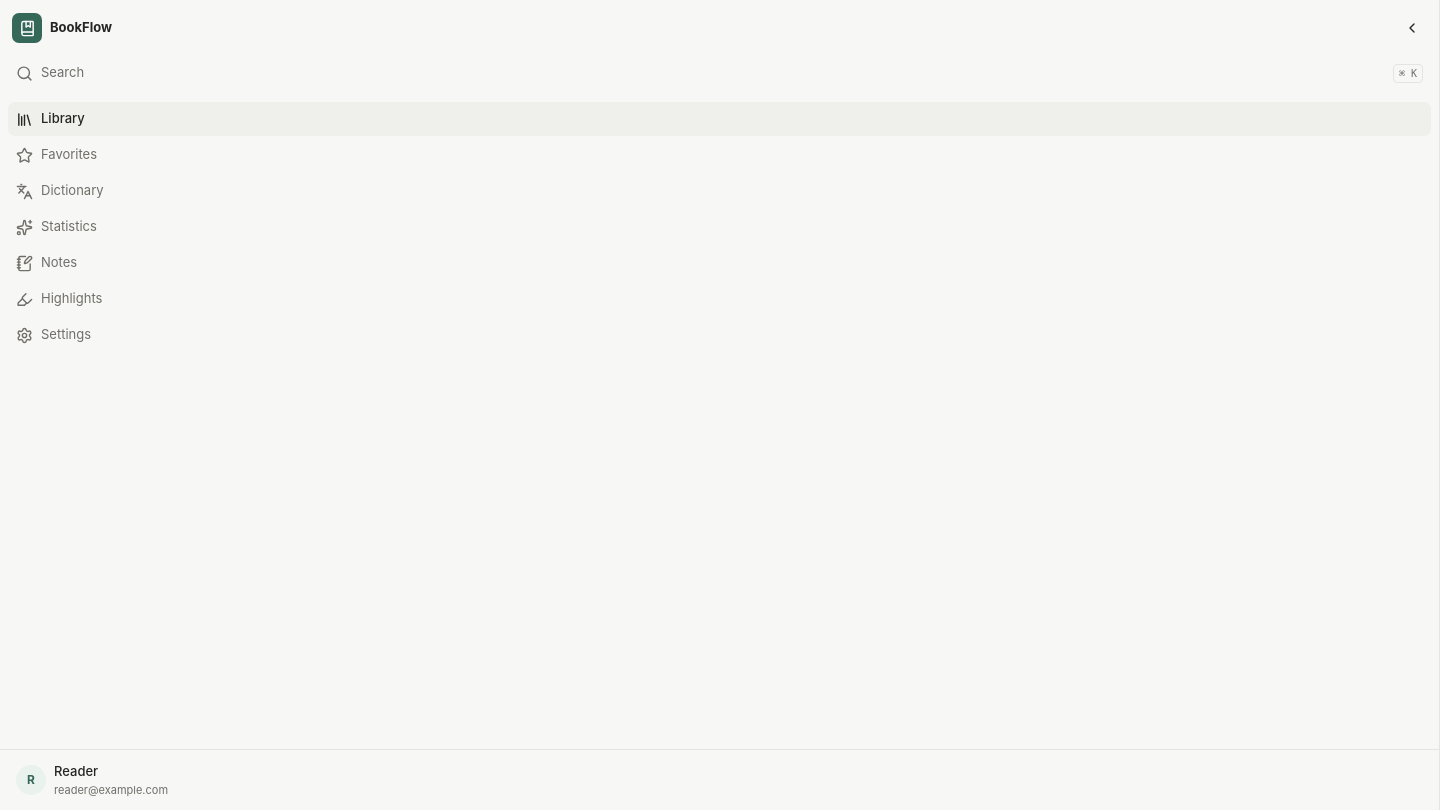
Sidebar › keeps the rail toggle at the top and supports keyboard activation both ways
Click the button named "Collapse sidebar".
click(1412, 28)  # box [1397,13,1427,43]
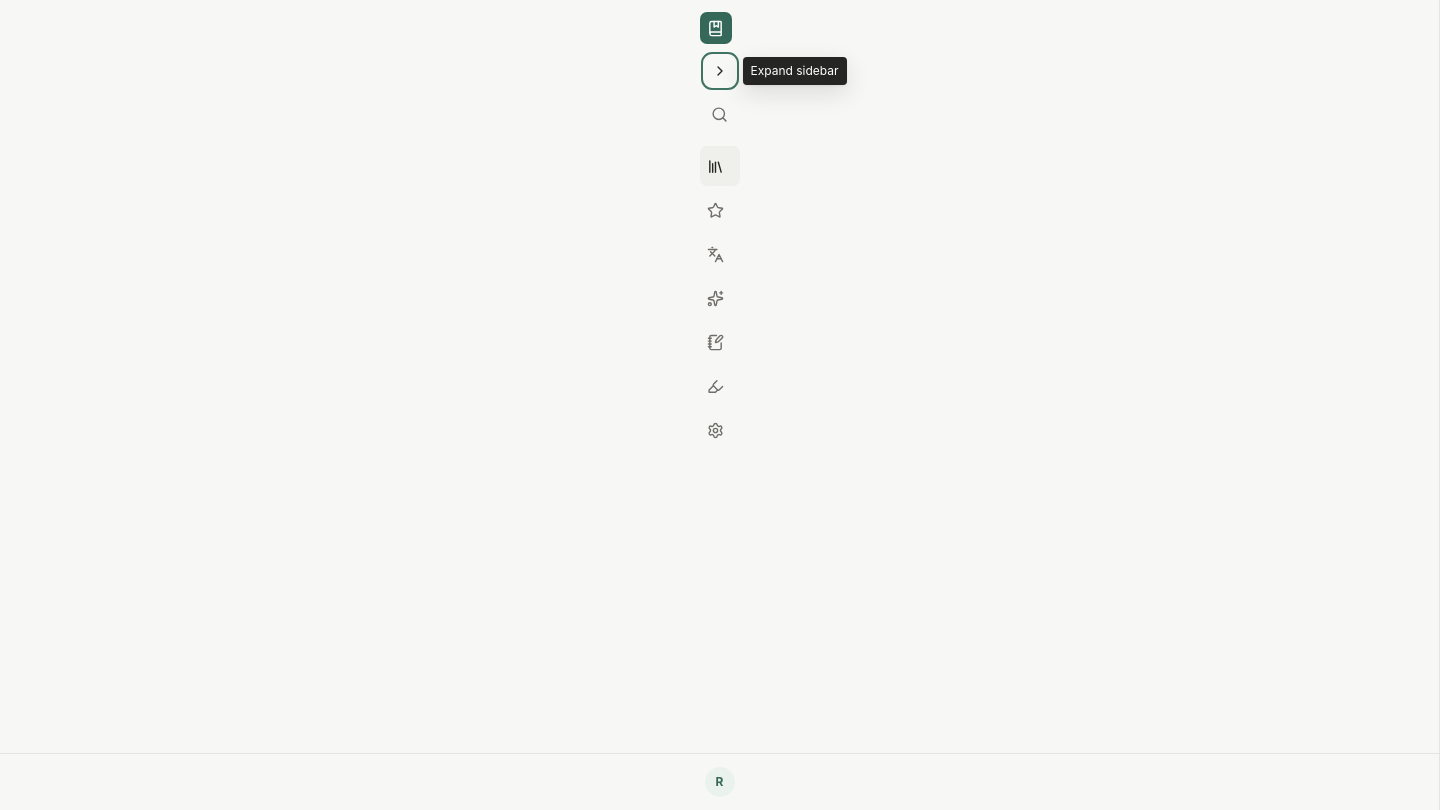
Press Enter
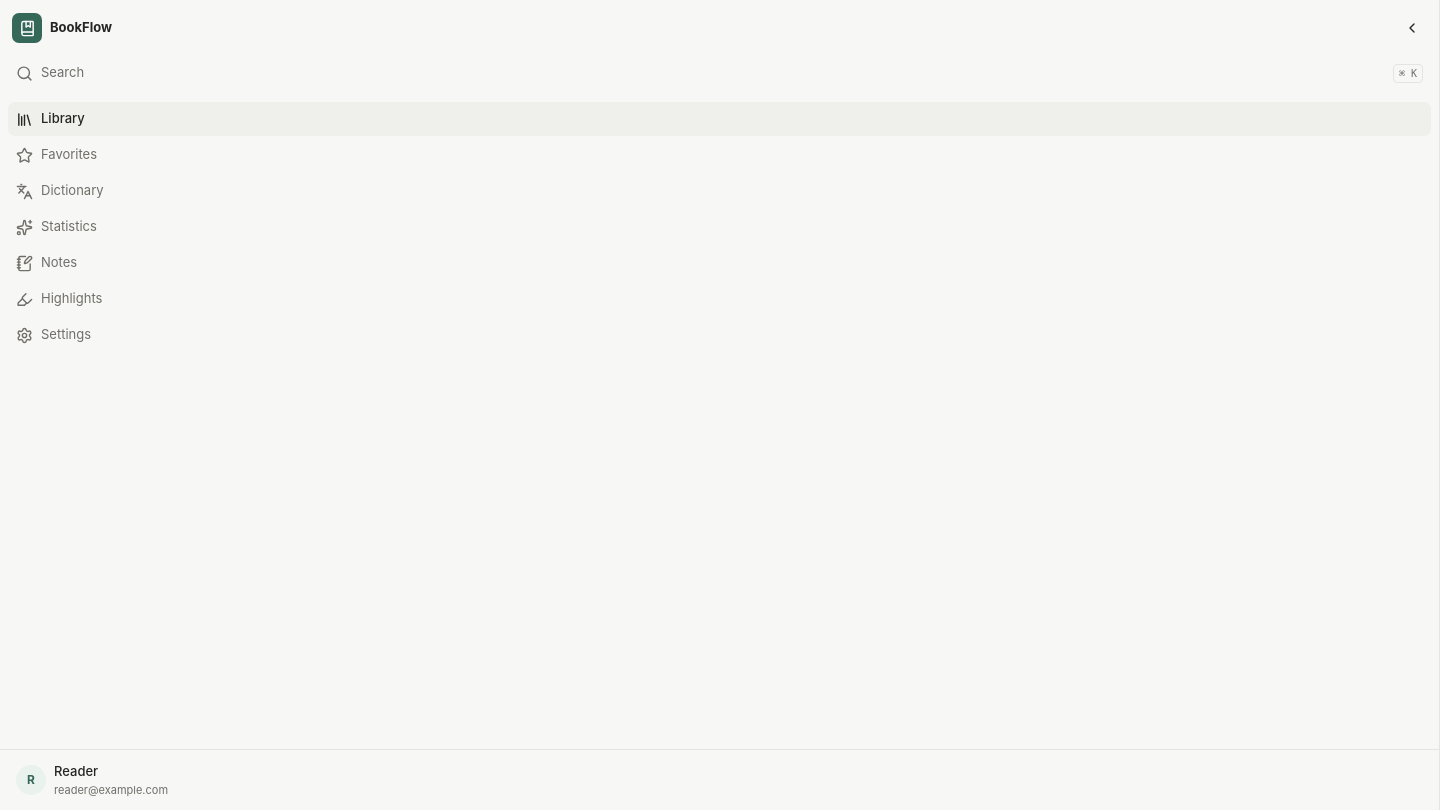
Check: the button named "Collapse sidebar" is shown, box [1397,13,1427,43]
